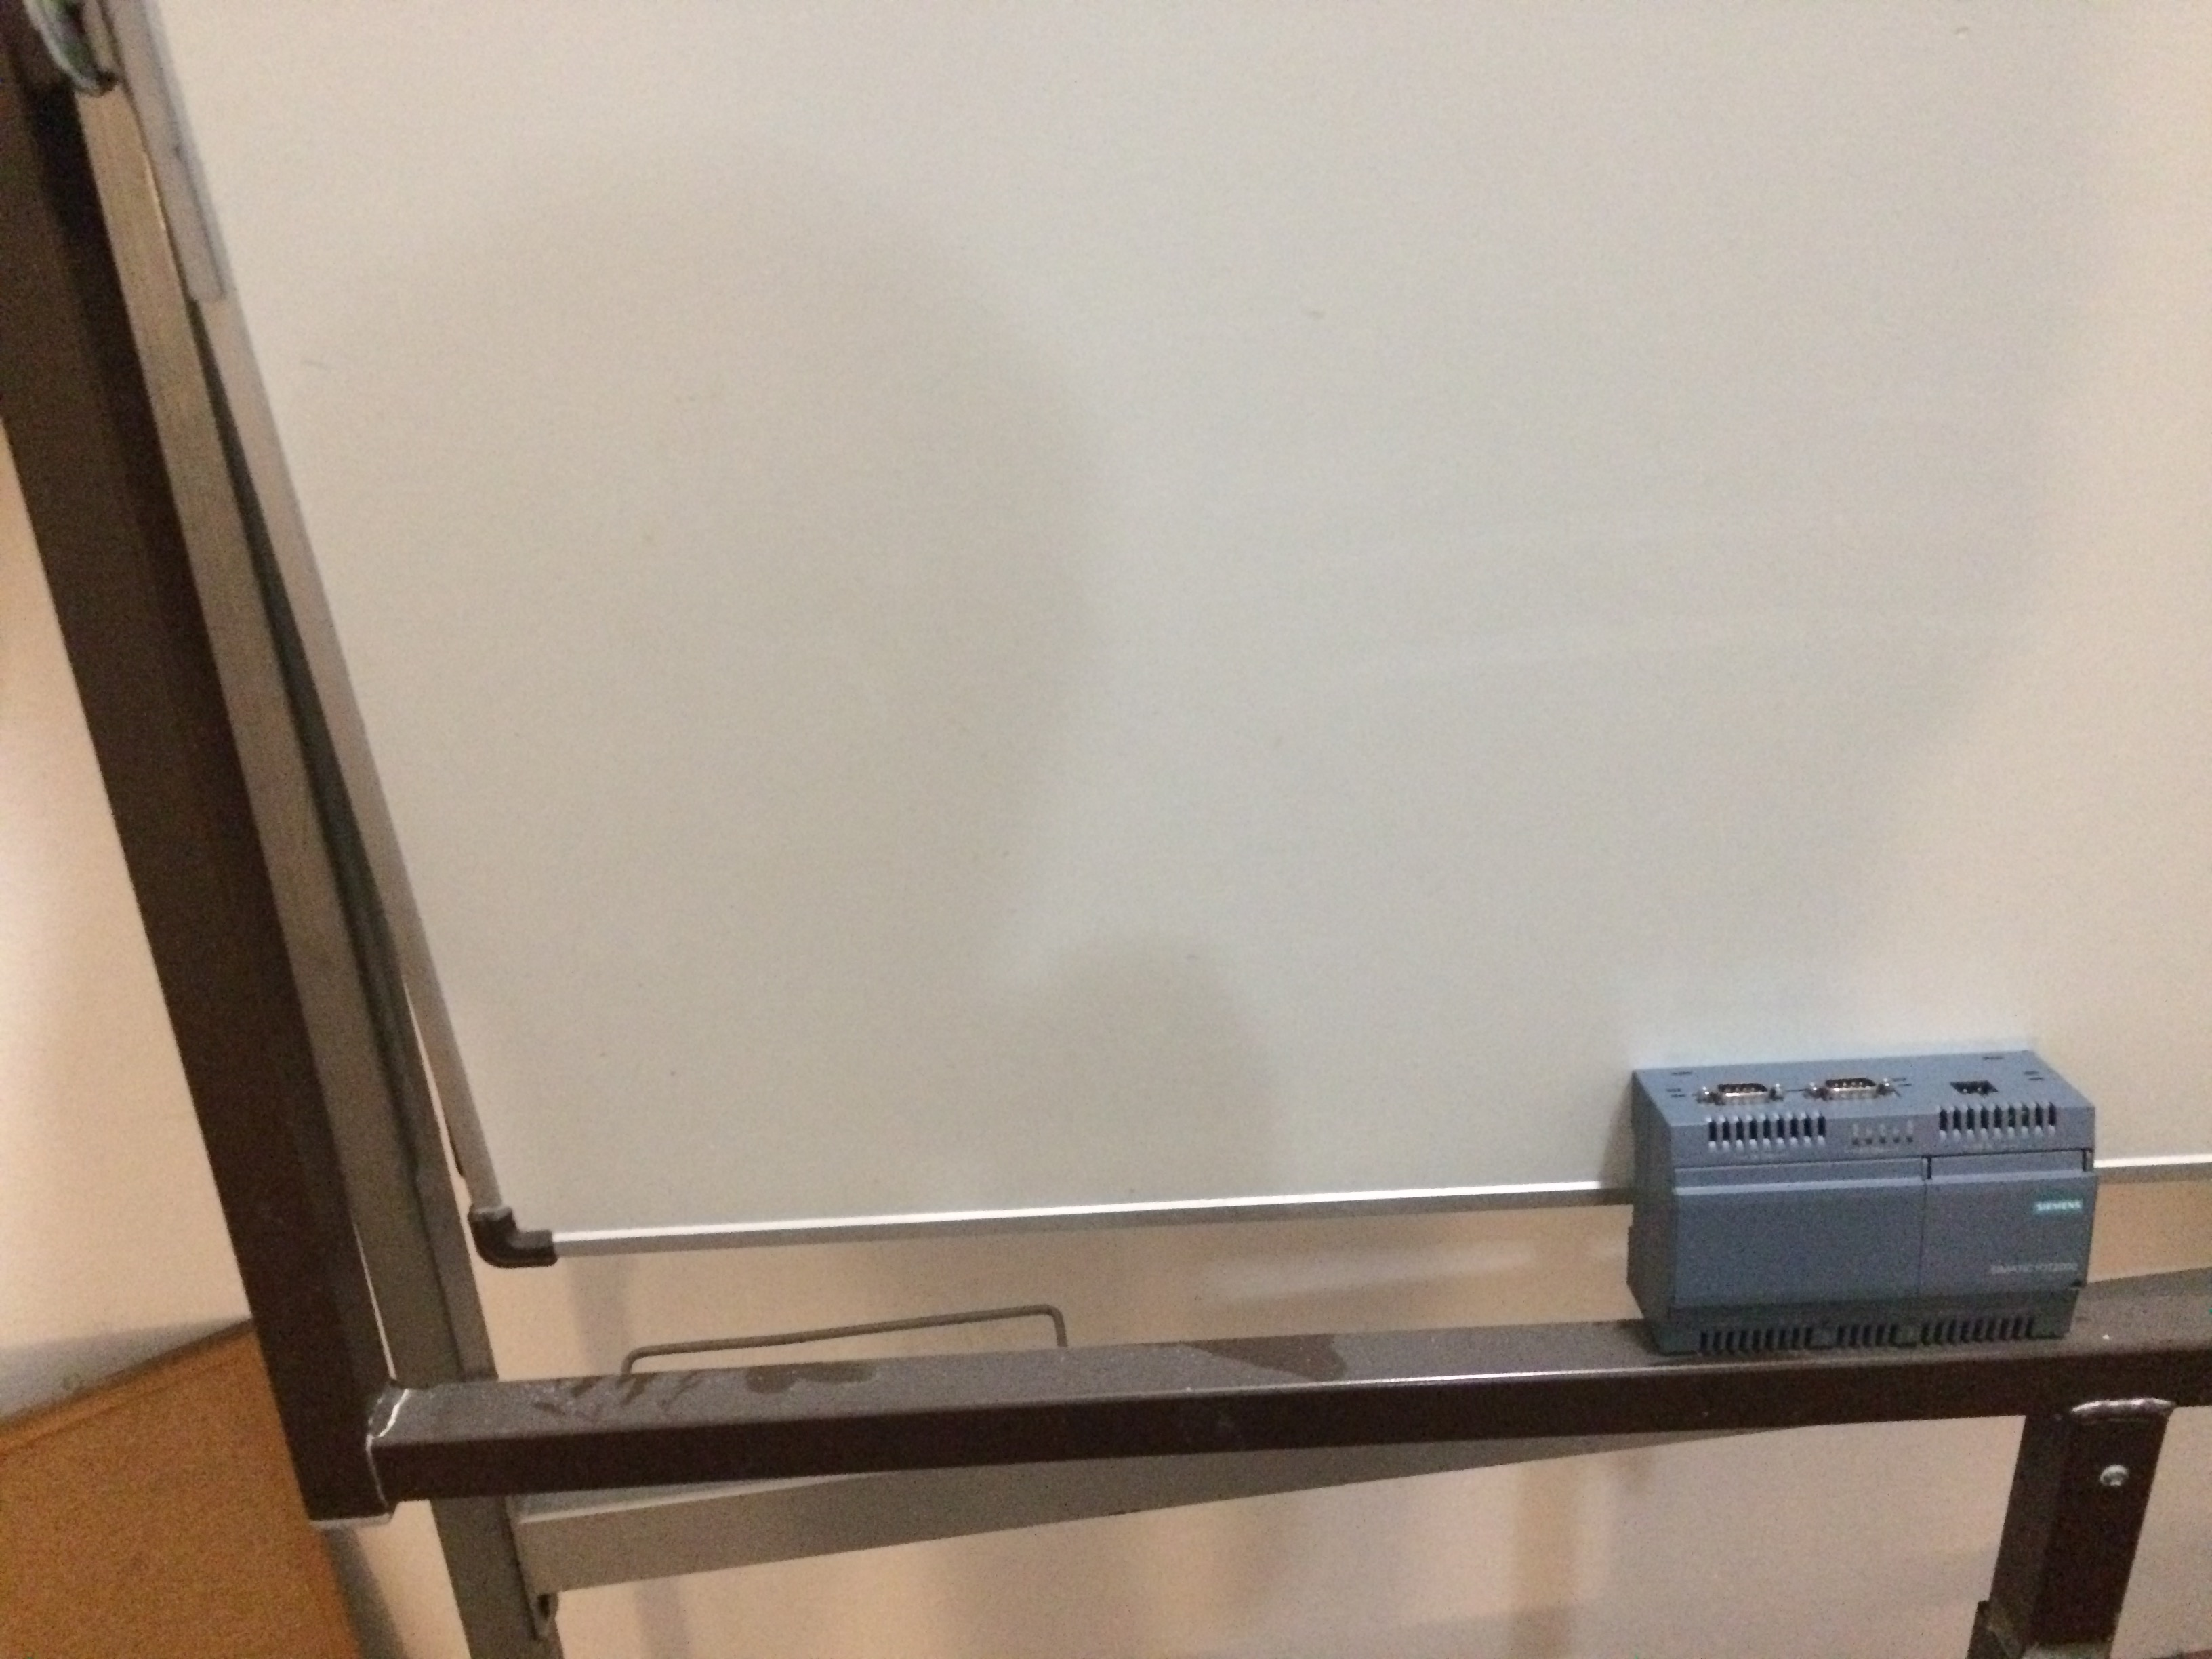iot2000: (1622, 1047, 2104, 1359)
